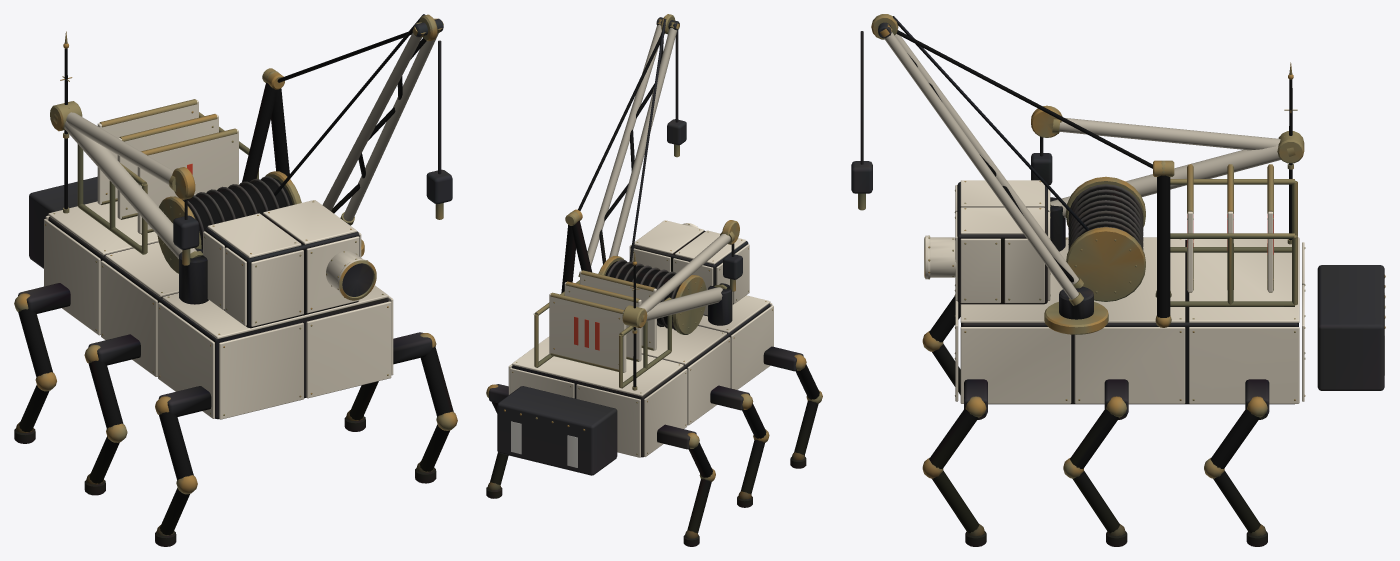
The model's file is davit.glb.
3 views of the same model, side by side, from view 1: azimuth 30°, elevation 25°; view 2: azimuth 150°, elevation 25°; view 3: azimuth 270°, elevation 25° (orthographic). The views are drawn at different scales.
Visible parts, largest first — view 1: davit-hull, plate1, plate3, plate2; view 2: davit-hull, plate3, plate2, plate1; view 3: davit-hull, plate3, plate1.
Boxes of the visible parts, x1=… form: davit-hull: x1=14, y1=14, x2=457, y2=546; plate1: x1=137, y1=128, x2=238, y2=234; plate3: x1=97, y1=99, x2=198, y2=204; plate2: x1=117, y1=114, x2=218, y2=219; davit-hull: x1=486, y1=14, x2=822, y2=546; plate3: x1=549, y1=292, x2=626, y2=372; plate2: x1=564, y1=281, x2=641, y2=361; plate1: x1=580, y1=270, x2=656, y2=350; davit-hull: x1=851, y1=14, x2=1385, y2=546; plate3: x1=1267, y1=164, x2=1273, y2=292; plate1: x1=1187, y1=164, x2=1193, y2=292.
Size of what is drawn, in the model's own units: 2.4 by 4.18 by 3.99.
1 material, 1 textured.
